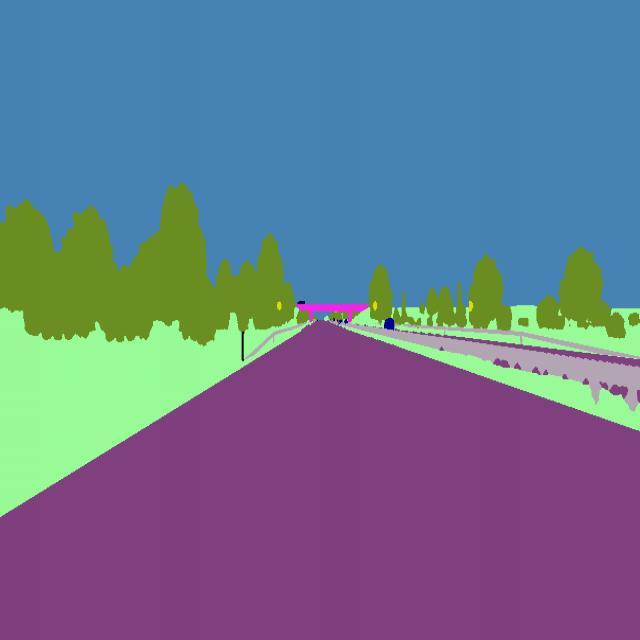safe: (383, 314, 396, 331)
